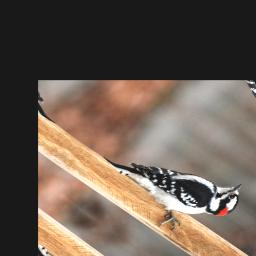Woodpecker: (86, 117, 252, 250)
